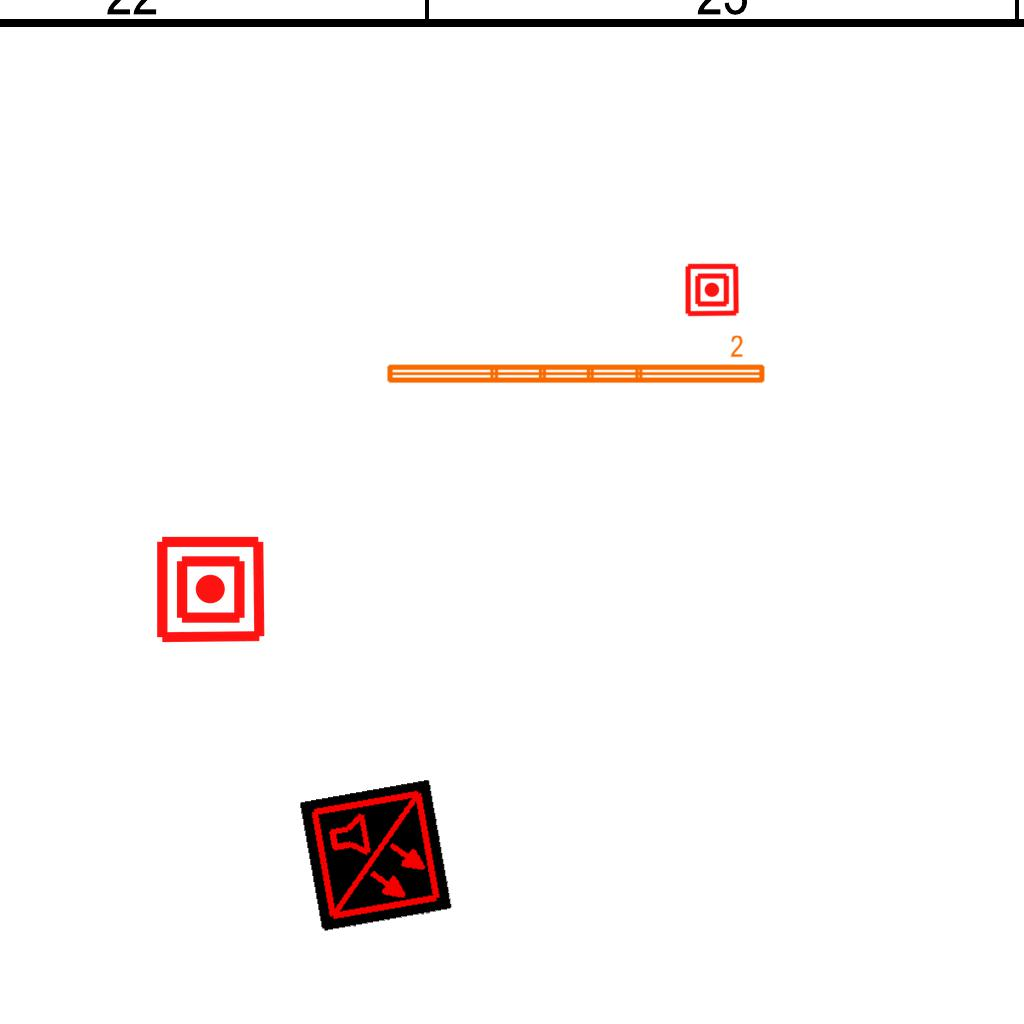Ambulanz_Pendelleuchte_LED: (382, 333, 769, 389)
NAM-Nichtautomatischer_Melder: (154, 533, 267, 646), (684, 262, 740, 318)
OKW_Multisensormelder_(Kombination_optischer_Rauch-Kahlenmonoxid_Waerme-Melder): (299, 779, 453, 933)
